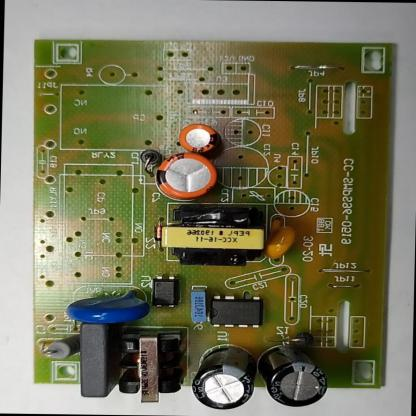Cap1: (154, 151, 222, 201)
Cap2: (176, 120, 222, 156)
Cap3: (188, 343, 262, 412)
Cap4: (255, 343, 330, 411)
MOSFET: (206, 292, 266, 332)
Mov: (61, 285, 153, 329)
Resistor: (41, 332, 84, 362)
Transformer: (156, 201, 271, 269), (112, 324, 191, 406)
